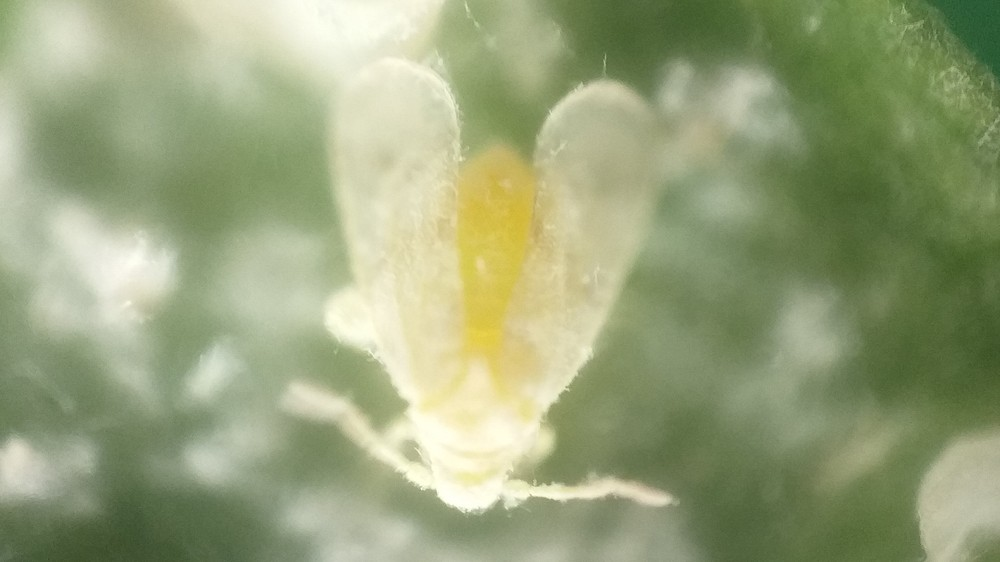Mosca Blanca: (270, 43, 691, 539)
